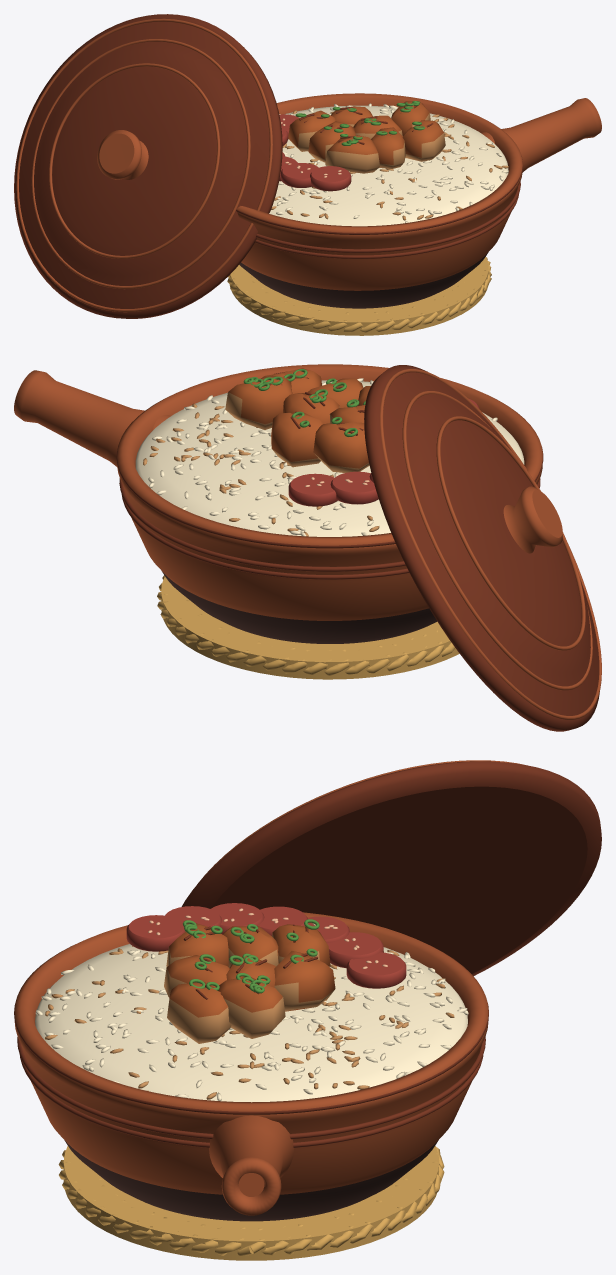
3 views of the same model, one above another, from view 1: azimuth 30°, elevation 25°; view 2: azimuth 150°, elevation 25°; view 3: azimuth 270°, elevation 25° (orthographic). The views are drawn at different scales.
Parts seen in each view (by area): view 1: Resting cover, Smoke fired casserole, Rice and crust, Trivet, Soy chicken, Cured sausage, Scallion rings; view 2: Resting cover, Smoke fired casserole, Rice and crust, Trivet, Soy chicken, Cured sausage, Scallion rings; view 3: Resting cover, Smoke fired casserole, Rice and crust, Trivet, Soy chicken, Cured sausage, Scallion rings.
Part boxes in pixels (box(x1,y1,x2,y2)): Resting cover: box(14, 14, 282, 318); Smoke fired casserole: box(236, 93, 601, 308); Rice and crust: box(269, 103, 508, 226); Trivet: box(227, 257, 491, 335); Soy chicken: box(288, 101, 445, 173); Cured sausage: box(279, 114, 351, 191); Scallion rings: box(295, 101, 424, 145); Resting cover: box(364, 365, 601, 731); Smoke fired casserole: box(14, 364, 543, 643); Rice and crust: box(135, 378, 524, 536); Trivet: box(157, 575, 459, 679); Soy chicken: box(225, 368, 370, 472); Cured sausage: box(288, 399, 479, 506); Scallion rings: box(243, 369, 365, 437); Resting cover: box(181, 760, 601, 976); Smoke fired casserole: box(14, 912, 488, 1221); Rice and crust: box(35, 944, 468, 1102); Trivet: box(58, 1146, 444, 1260); Soy chicken: box(164, 923, 335, 1043); Cured sausage: box(126, 903, 406, 988); Scallion rings: box(183, 919, 319, 993).
Bounding box in the file's own units: 0.3814 × 0.1793 × 0.2755.
